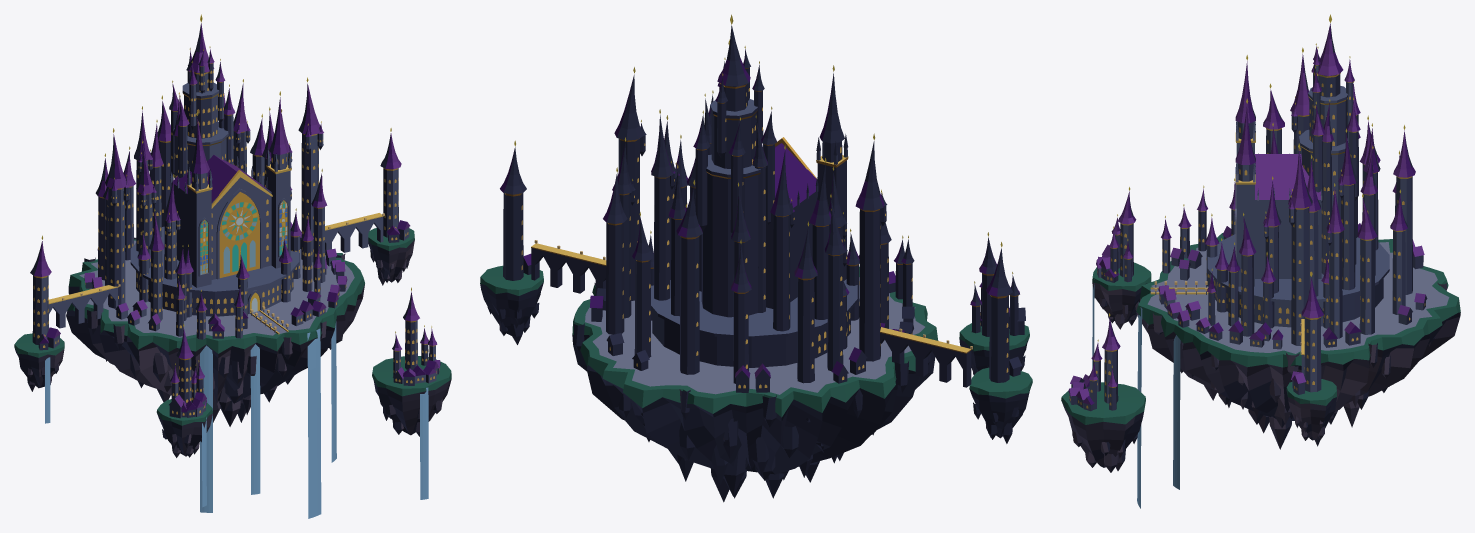
The model's file is station.glb.
3 views of the same model, side by side, from view 1: azimuth 30°, elevation 25°; view 2: azimuth 150°, elevation 25°; view 3: azimuth 270°, elevation 25° (orthographic). The views are drawn at different scales.
Visible parts, largest first — view 1: Castle, Base, GlassWindows, GlassNave, Waterfall3, Waterfall1, Waterfall2, Waterfall5, GlassTowers, Waterfall4; view 2: Castle, Base, GlassWindows; view 3: Castle, Base, GlassWindows, Waterfall4, Waterfall3.
Boxes of the visible parts, left/top/right/bottom form: Castle: left=30, top=23, right=440, bottom=418; Base: left=14, top=228, right=451, bottom=457; GlassWindows: left=33, top=14, right=439, bottom=415; GlassNave: left=219, top=192, right=259, bottom=312; Waterfall3: left=307, top=328, right=321, bottom=518; Waterfall1: left=200, top=345, right=212, bottom=512; Waterfall2: left=250, top=344, right=260, bottom=494; Waterfall5: left=420, top=387, right=428, bottom=499; GlassTowers: left=200, top=200, right=287, bottom=274; Waterfall4: left=331, top=321, right=336, bottom=462; Castle: left=500, top=25, right=1025, bottom=392; Base: left=480, top=265, right=1032, bottom=502; GlassWindows: left=514, top=14, right=1013, bottom=388; Castle: left=1068, top=23, right=1427, bottom=411; Base: left=1061, top=233, right=1460, bottom=472; GlassWindows: left=1069, top=14, right=1425, bottom=408; Waterfall4: left=1173, top=335, right=1180, bottom=489; Waterfall3: left=1137, top=302, right=1142, bottom=508.
Bounding box in the file's own units: 584 × 599 × 454.
